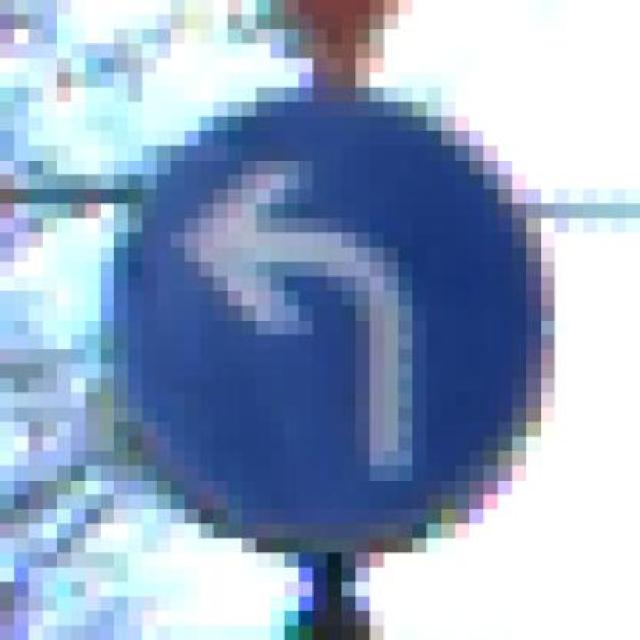Turn left ahead: (85, 72, 569, 568)
